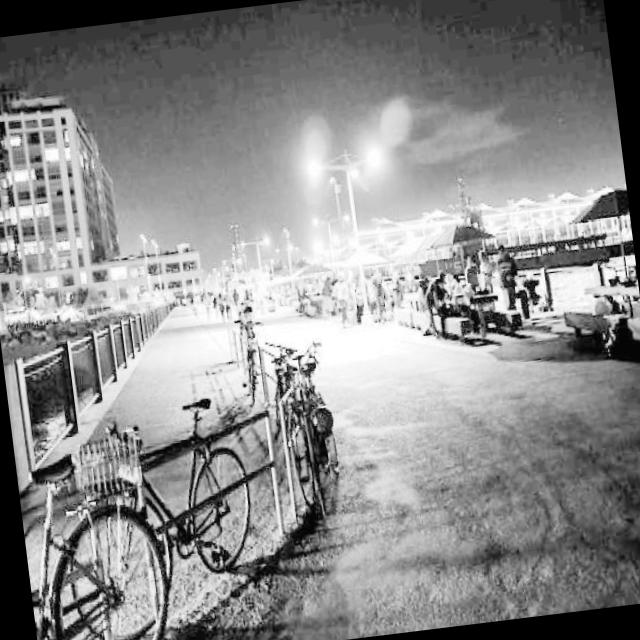Bicycle: (15, 403, 250, 640), (254, 335, 366, 520)
